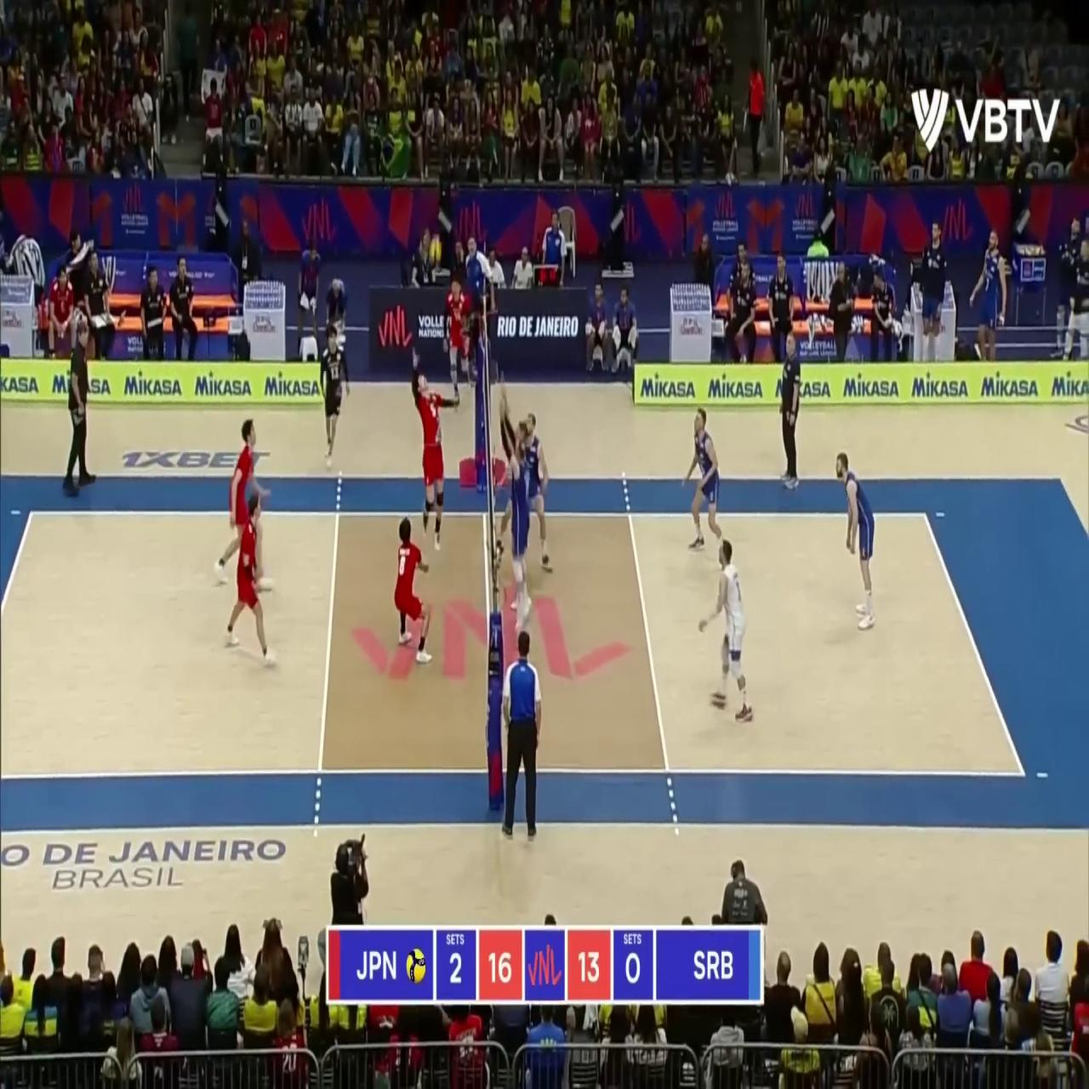ball: (429, 236, 441, 262)
